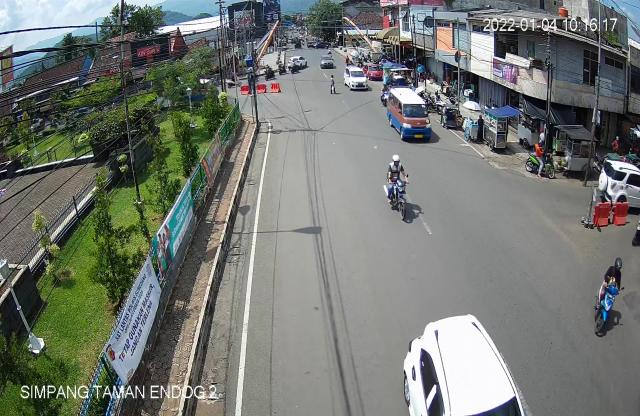Mobil: (402, 312, 526, 416), (596, 148, 640, 213), (386, 86, 434, 145), (343, 64, 370, 91)
Motor: (588, 254, 629, 340), (382, 154, 414, 227), (525, 136, 557, 183)
